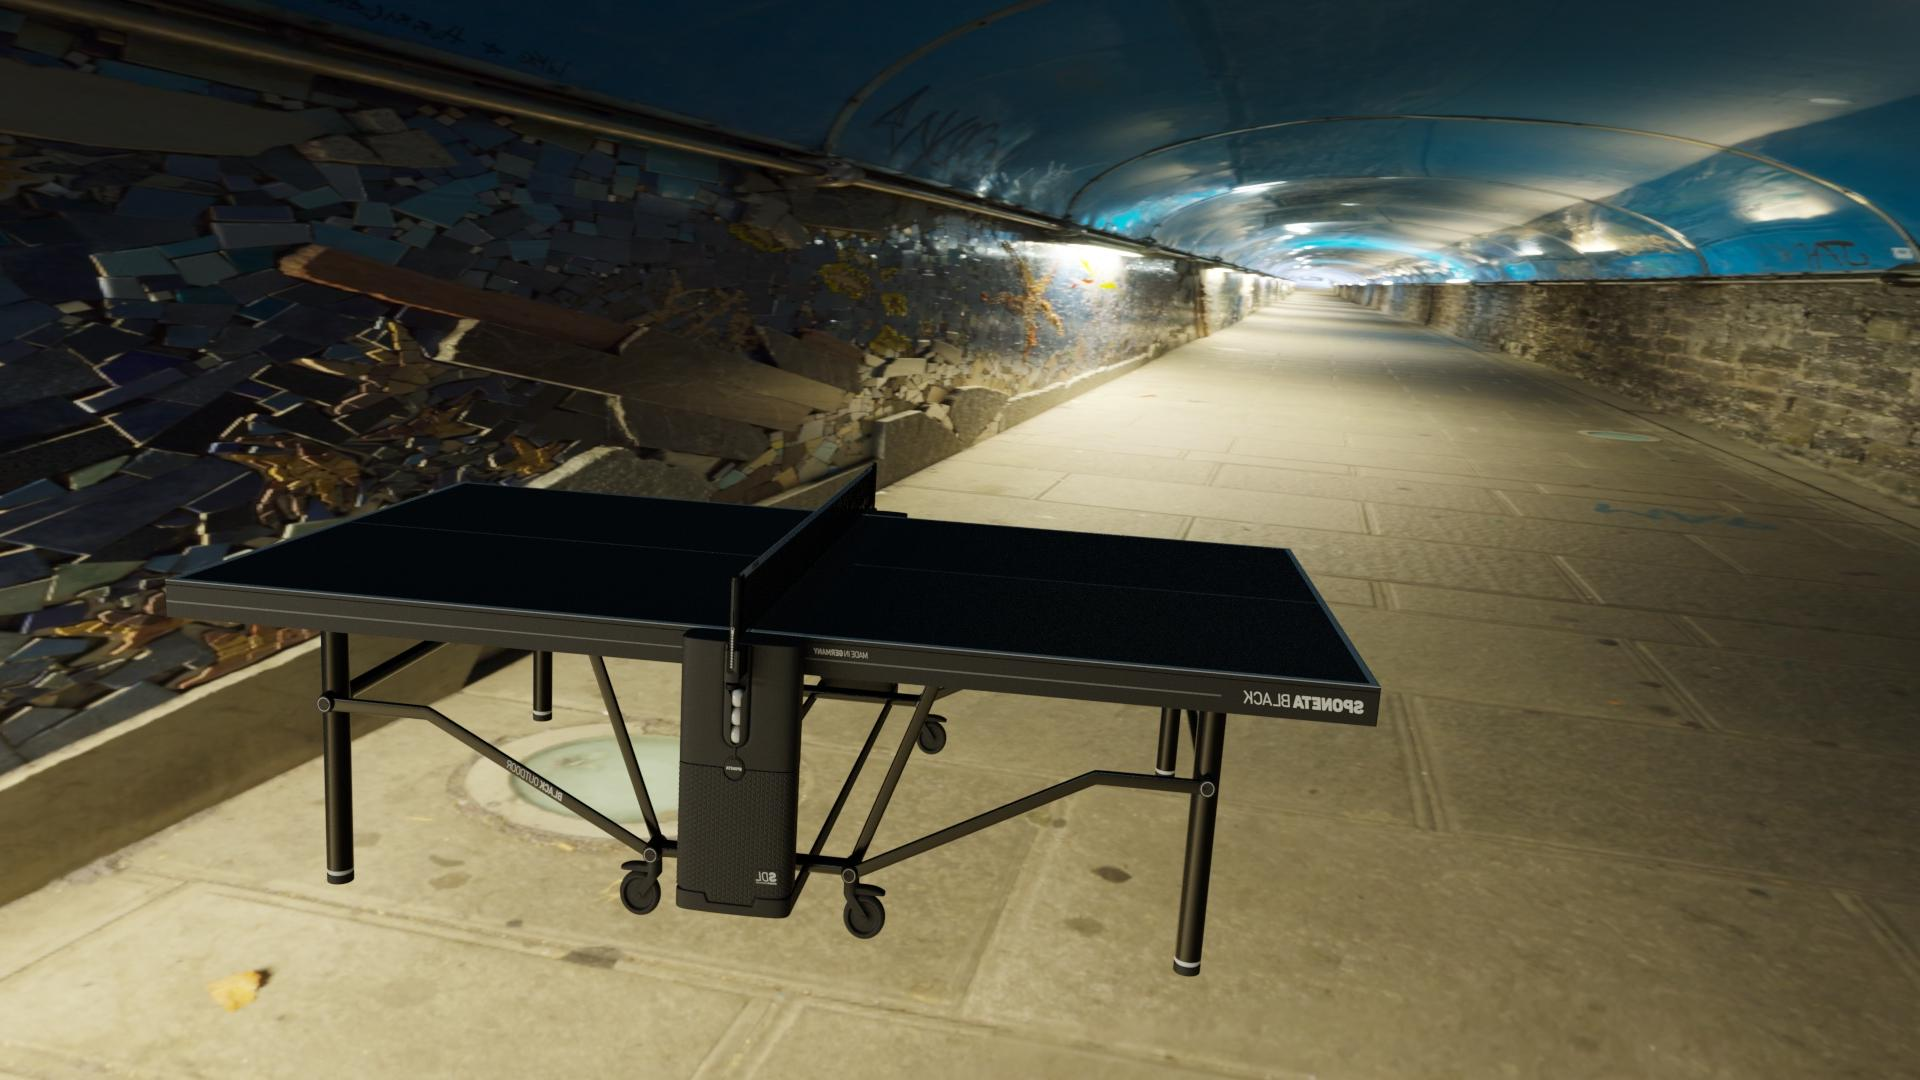table: (179, 483, 1370, 684)
